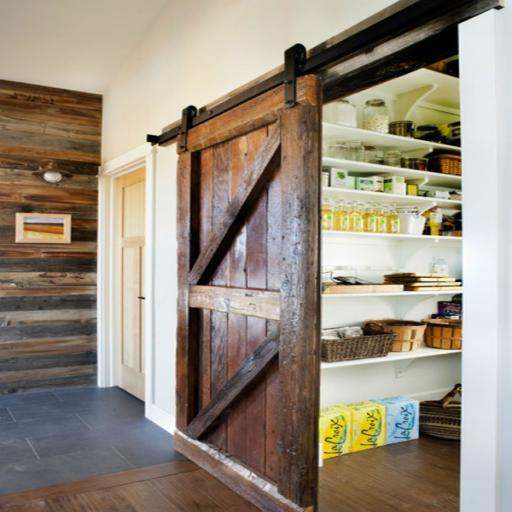Door: (173, 75, 322, 512), (108, 166, 147, 400)
